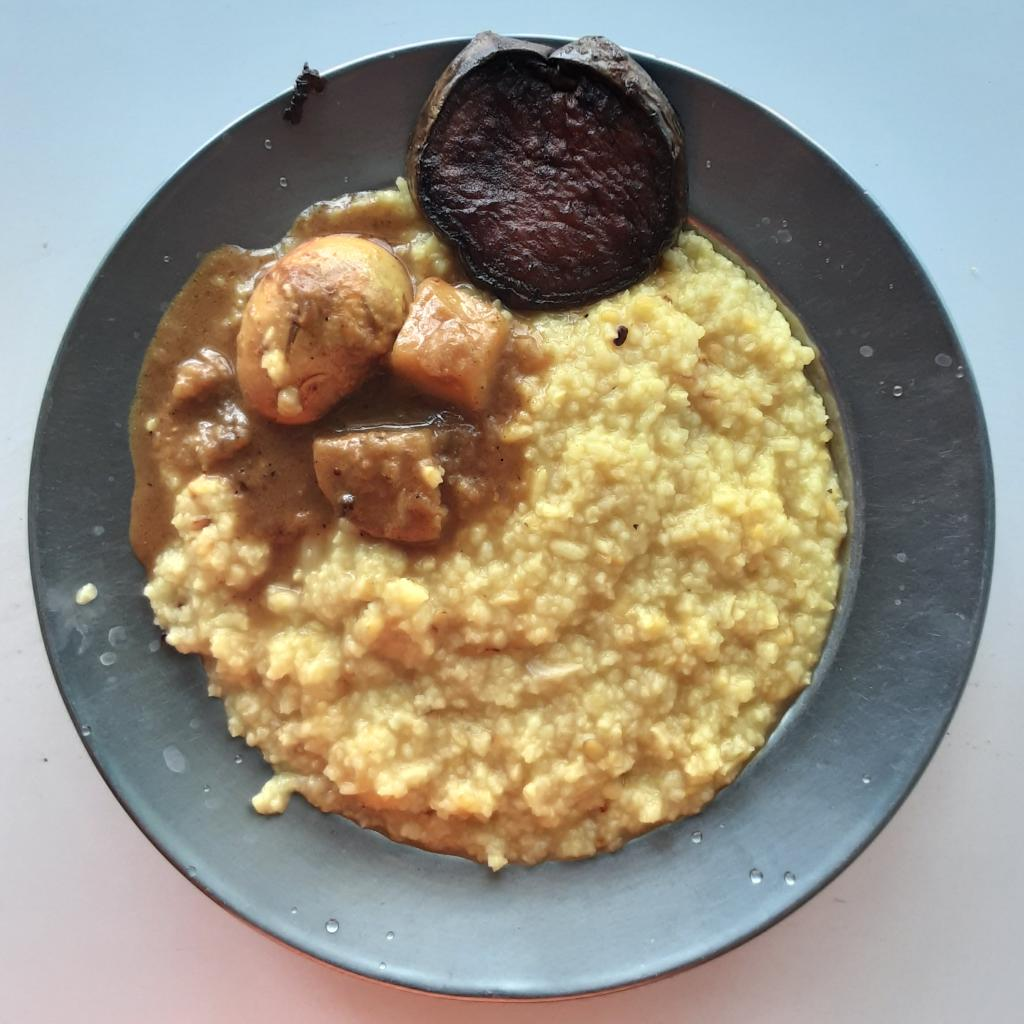begun-vaji: (404, 34, 696, 304)
egg-boiled: (230, 235, 417, 428)
khichuri: (126, 192, 844, 873)
potato: (375, 272, 515, 428), (309, 428, 447, 548)
